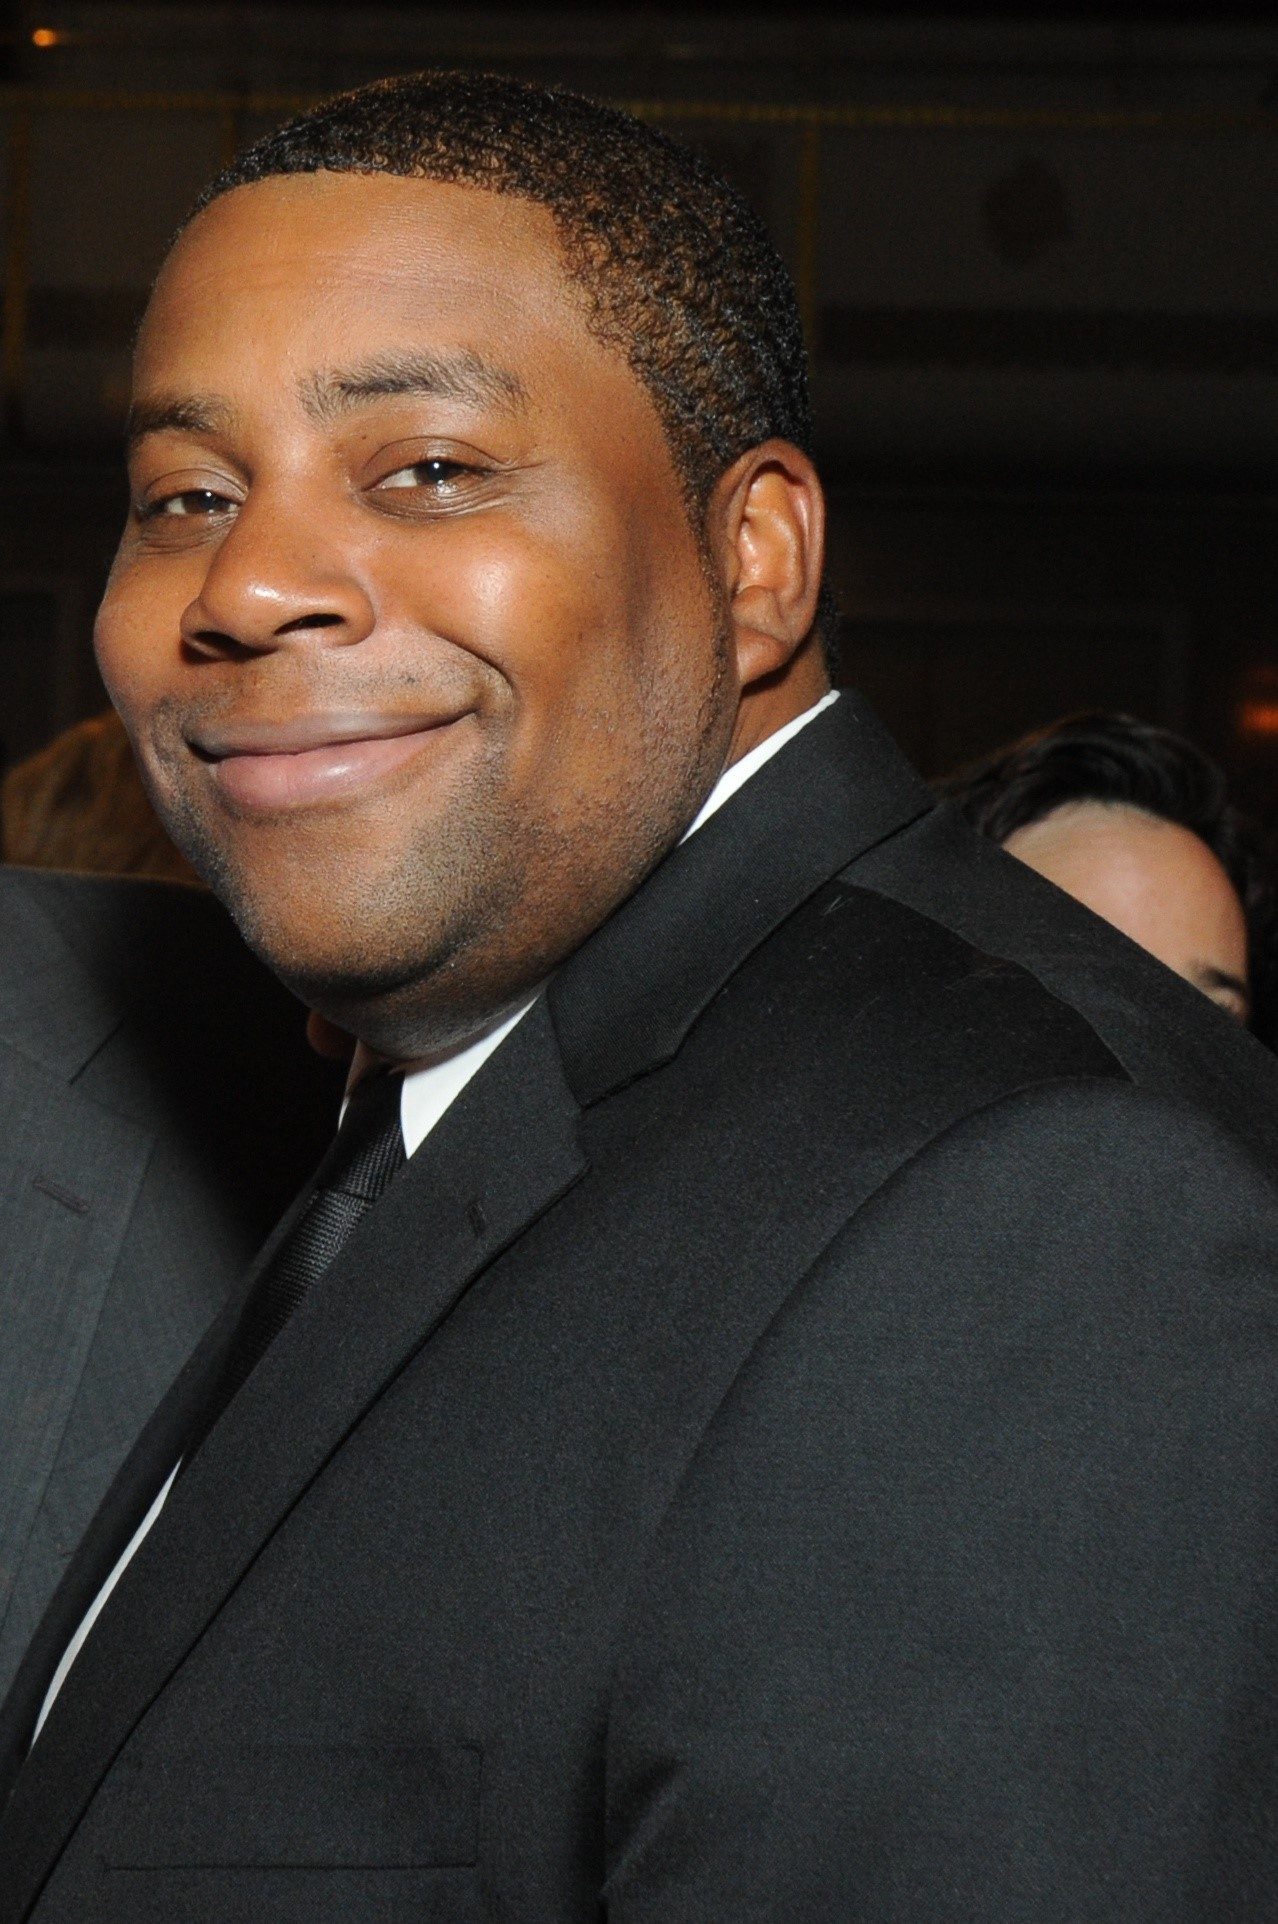face_no_mask: (97, 92, 828, 1045)
